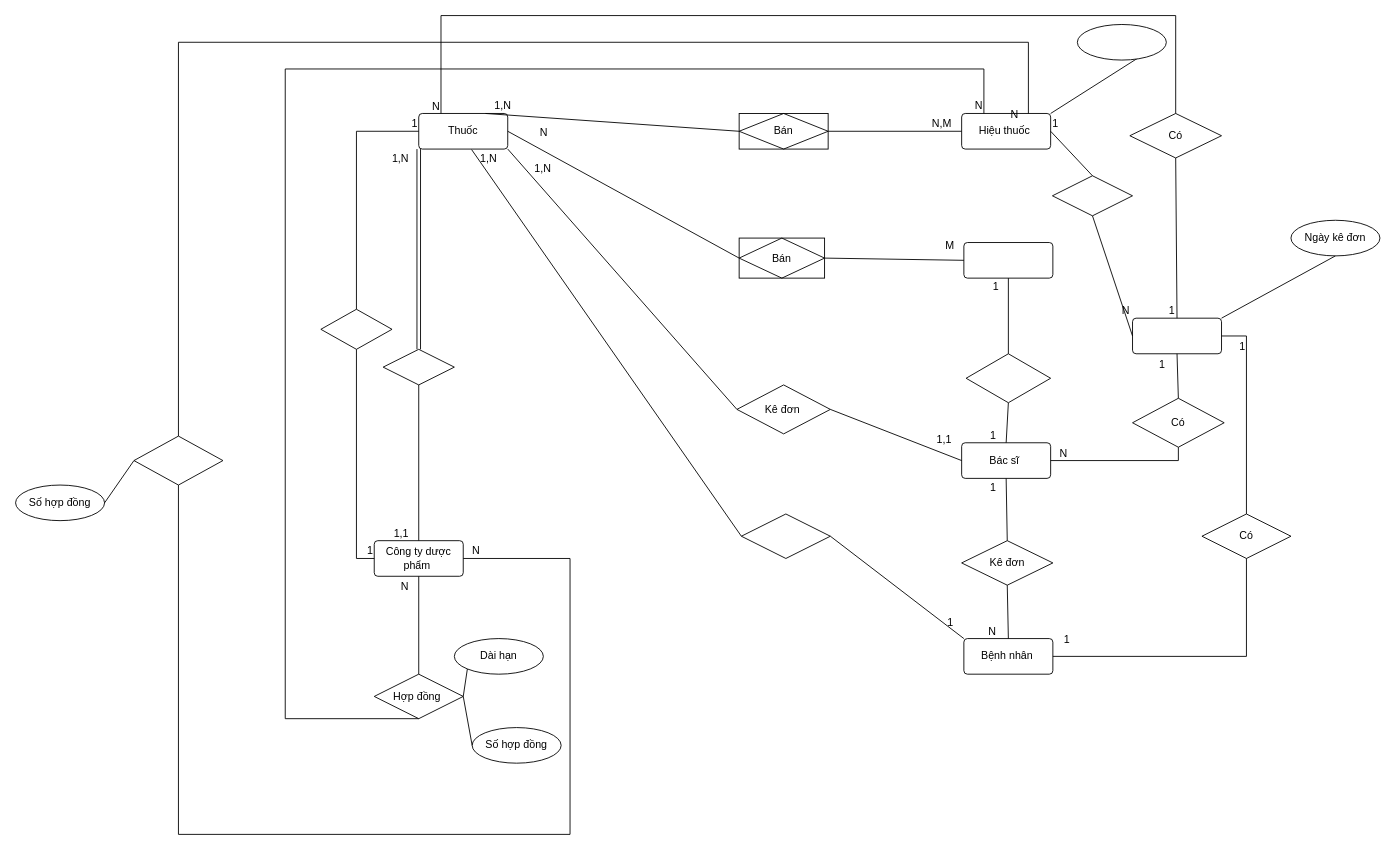
This 1396x851 diagram has some shape labels left out. The shapes that lost their labels are listed below. From the top down, each one's centre as x and y in pixels, then its label:
At (x=1121, y=42): "Mã hiệu thuốc".
At (x=1092, y=195): "Lưu trữ".
At (x=1008, y=260): "Đơn thuốc".
At (x=356, y=328): "Tiếp thị".
At (x=1177, y=335): "Thông tin đơn thuốc".
At (x=418, y=366): "Sản xuất".
At (x=1008, y=378): "Được viết".
At (x=178, y=460): "Ký hợp đồng".
At (x=785, y=535): "Nhận".
